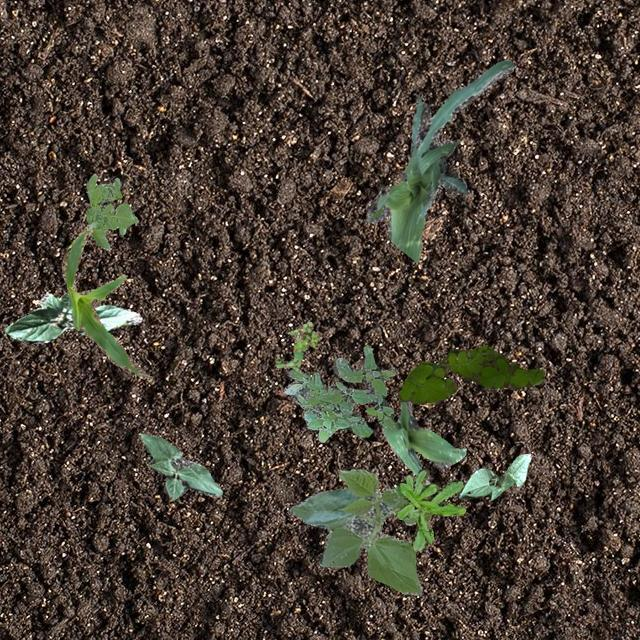crop: (364, 58, 512, 262), (288, 468, 422, 594), (61, 220, 150, 378), (380, 399, 464, 484), (5, 290, 140, 342), (140, 432, 222, 498), (458, 452, 530, 500)
weed: (283, 344, 397, 442), (396, 344, 544, 404), (394, 468, 464, 550), (84, 172, 138, 248), (274, 320, 320, 370)
